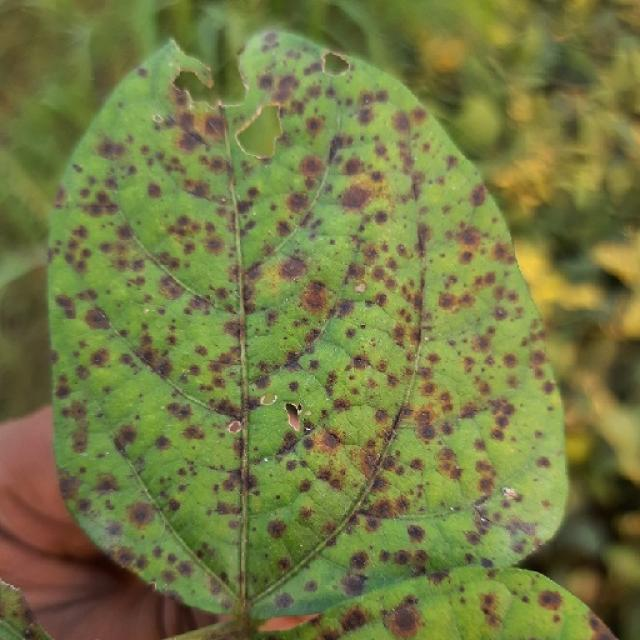Anthracnose: (424, 577, 513, 638), (438, 419, 498, 493), (166, 101, 231, 161), (481, 504, 544, 557), (161, 209, 215, 254), (295, 281, 345, 324), (273, 424, 311, 461), (457, 216, 488, 256), (339, 179, 376, 212), (388, 603, 420, 636), (310, 427, 343, 456), (325, 132, 347, 170), (340, 607, 369, 634), (156, 275, 186, 301), (127, 501, 155, 528), (82, 306, 110, 331), (322, 51, 351, 75), (298, 154, 325, 178), (340, 573, 367, 597), (279, 256, 307, 279), (284, 401, 303, 432), (286, 191, 310, 214), (537, 589, 563, 610), (181, 423, 205, 442), (437, 292, 459, 312), (266, 519, 287, 539), (348, 551, 369, 570), (406, 524, 426, 543), (274, 592, 294, 610), (145, 181, 163, 199), (153, 434, 172, 451), (104, 521, 123, 538), (500, 352, 518, 369), (23, 607, 37, 628), (351, 355, 370, 370), (259, 393, 277, 406), (227, 420, 242, 434), (303, 580, 318, 593), (495, 306, 507, 319), (152, 113, 164, 124), (22, 633, 36, 640)
Blackgram: (48, 29, 566, 618)
